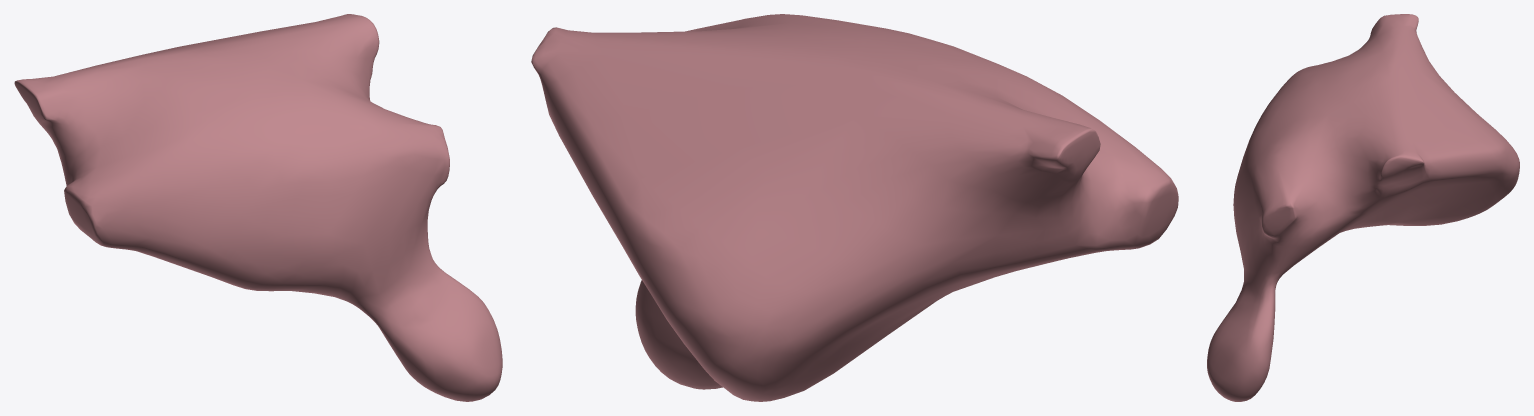
3 views of the same model, side by side, from view 1: azimuth 30°, elevation 25°; view 2: azimuth 150°, elevation 25°; view 3: azimuth 270°, elevation 25° (orthographic). The views are drawn at different scales.
Visible parts, largest first — view 1: structure; view 2: structure; view 3: structure.
Part boxes in pixels (x1=…): structure: x1=14, y1=14, x2=502, y2=401; structure: x1=531, y1=14, x2=1178, y2=401; structure: x1=1207, y1=14, x2=1519, y2=401.
Bounding box in the file's own units: 68.56 × 55.89 × 61.82.
